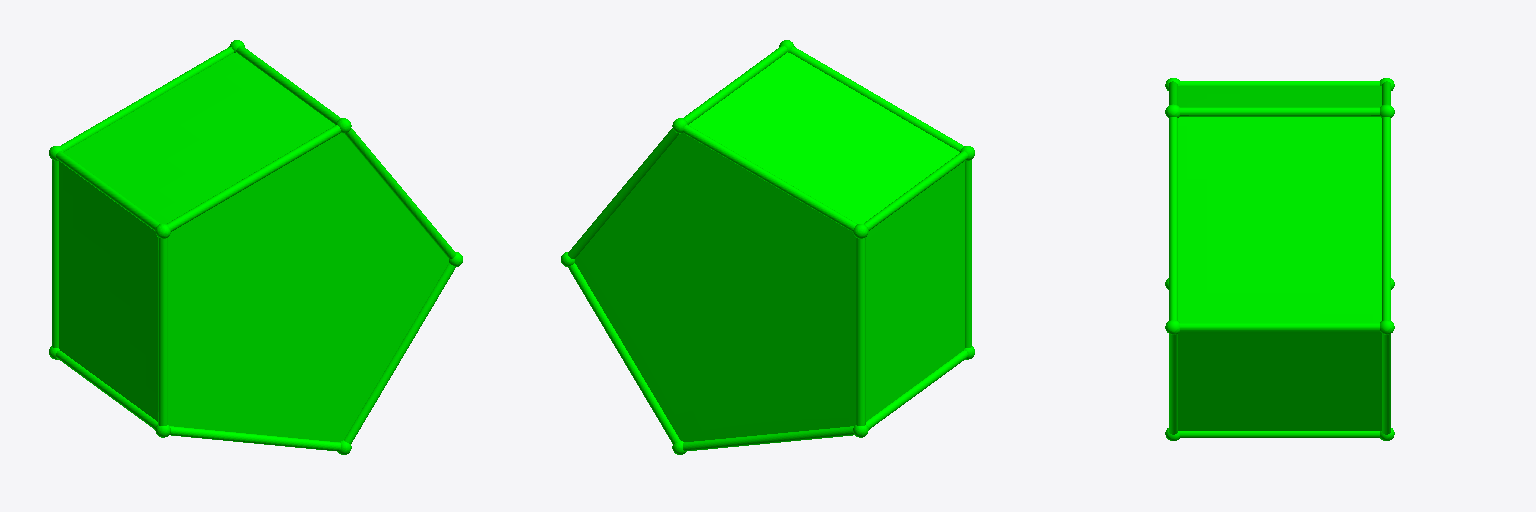
File: pent_green.obj
The picture shows the model from 3 angles: view 1: azimuth 30°, elevation 25°; view 2: azimuth 150°, elevation 25°; view 3: azimuth 270°, elevation 25°; orthographic projection.
Visible parts, largest first — view 1: pent; view 2: pent; view 3: pent.
Boxes of the visible parts, x1,y1,x2,y2 form: pent: [49, 40, 462, 454]; pent: [561, 40, 974, 454]; pent: [1165, 78, 1394, 440].
Size of the model in its own units: 8.57 by 9 by 5.58.